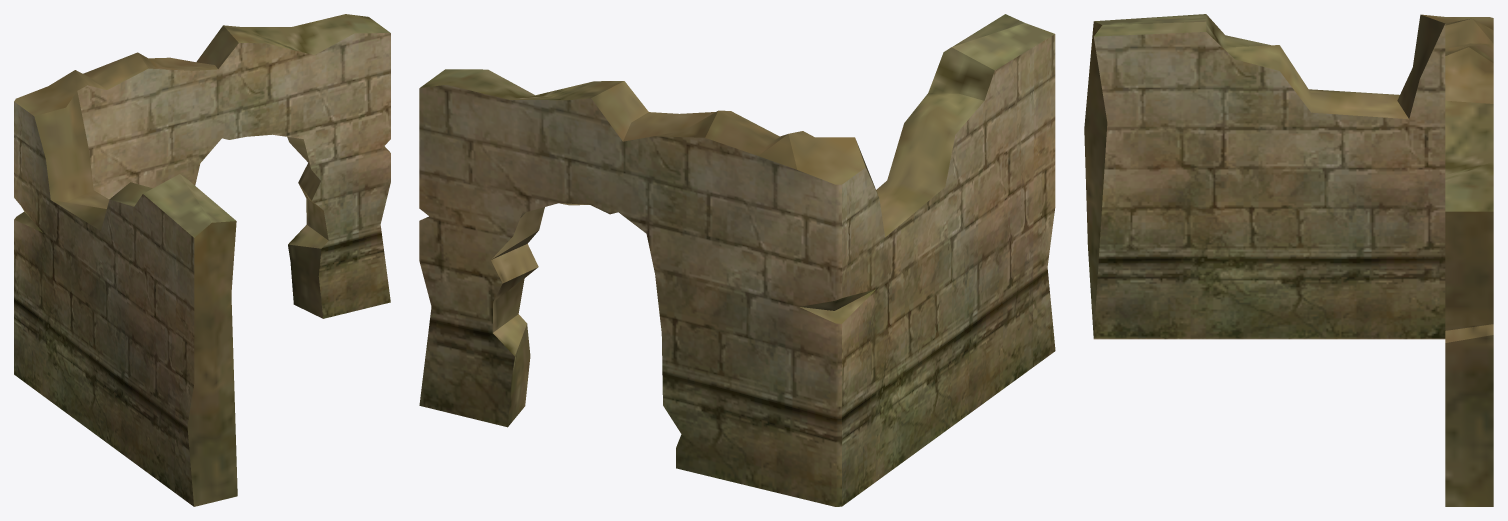
File: environment_common_Stonewall_002_a.FBX
3 renders of one model, left to right at view 1: azimuth 30°, elevation 25°; view 2: azimuth 150°, elevation 25°; view 3: azimuth 270°, elevation 25°, orthographic. The views are drawn at different scales.
Parts seen in each view (by area): view 1: environment_common_Stonewall_002_a; view 2: environment_common_Stonewall_002_a; view 3: environment_common_Stonewall_002_a.
Part boxes in pixels (box(x1,y1,x2,y2)): environment_common_Stonewall_002_a: box(14, 14, 390, 506); environment_common_Stonewall_002_a: box(419, 14, 1055, 506); environment_common_Stonewall_002_a: box(1084, 14, 1493, 506).
Bounding box in the file's own units: 414 × 334 × 375.
